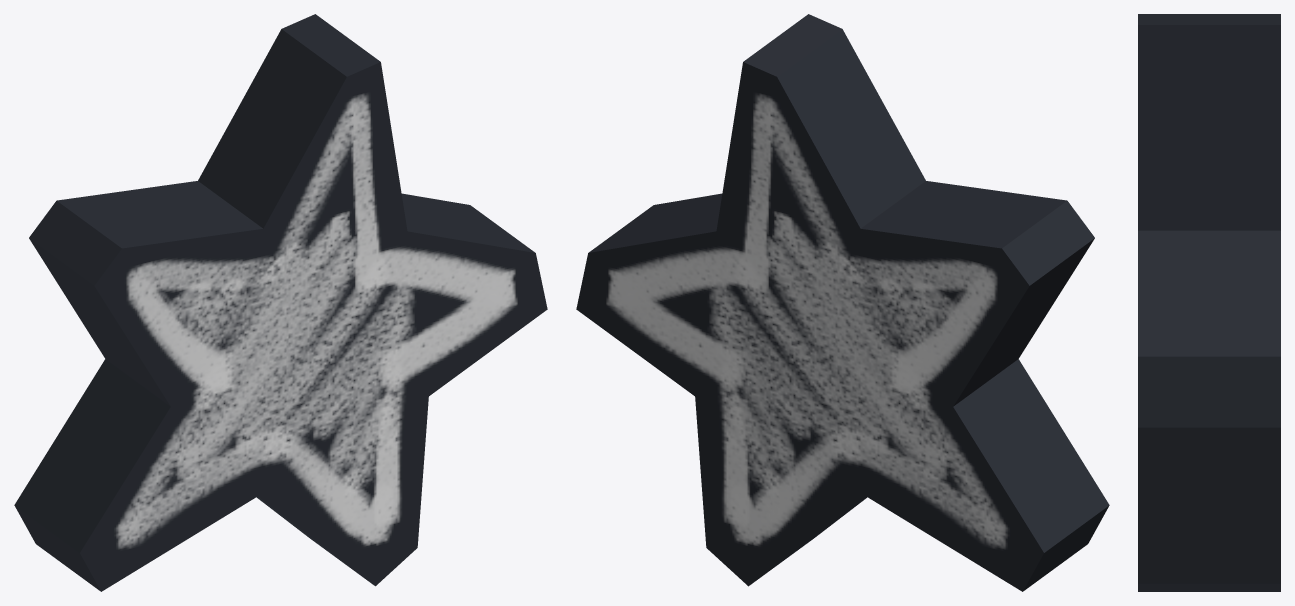
File: Star5.fbx
3 views of the same model, side by side, from view 1: azimuth 30°, elevation 25°; view 2: azimuth 150°, elevation 25°; view 3: azimuth 270°, elevation 25° (orthographic). The views are drawn at different scales.
Visible parts, largest first — view 1: m_Star2; view 2: m_Star2; view 3: m_Star2.
Part boxes in pixels (x1,y1,x2,y2): m_Star2: [14, 14, 547, 591]; m_Star2: [576, 14, 1109, 591]; m_Star2: [1138, 14, 1280, 591].
Size of the model in its own units: 0.4124 by 0.4408 by 0.1.
